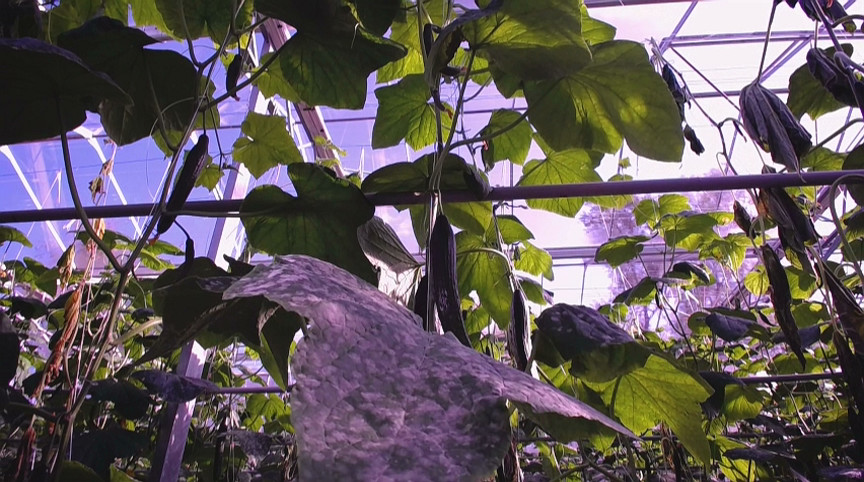cucumber: (156, 135, 210, 235), (429, 216, 470, 344), (510, 289, 539, 378)
